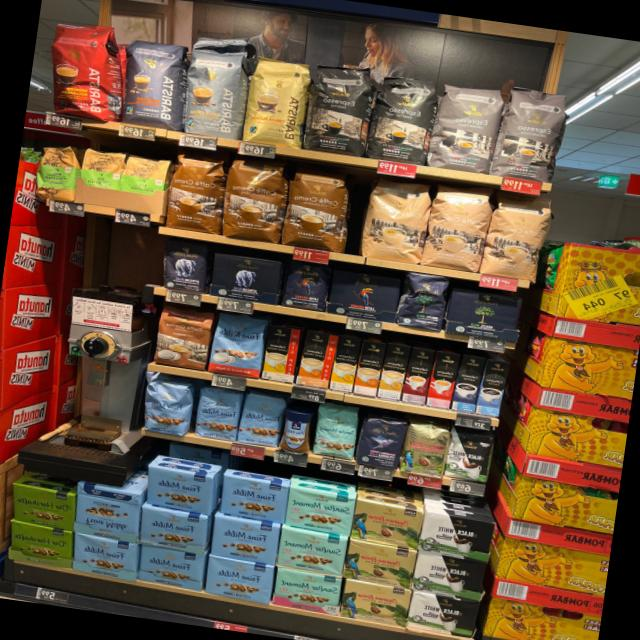Barista CB: (240, 54, 314, 151)
Barista CC: (178, 45, 252, 142)
Barista Espresso: (120, 37, 188, 131)
Barista Kolumbien: (42, 19, 118, 121)
CC Mild: (479, 192, 553, 284), (358, 176, 433, 264), (421, 184, 493, 273)
CC Vollmundig 36 Pads: (218, 154, 290, 245), (281, 168, 352, 252), (164, 152, 228, 235)
Espresso Aromatisch: (491, 84, 571, 184), (426, 82, 504, 175)
Espresso Kraftig: (302, 60, 378, 159), (367, 72, 440, 166)
